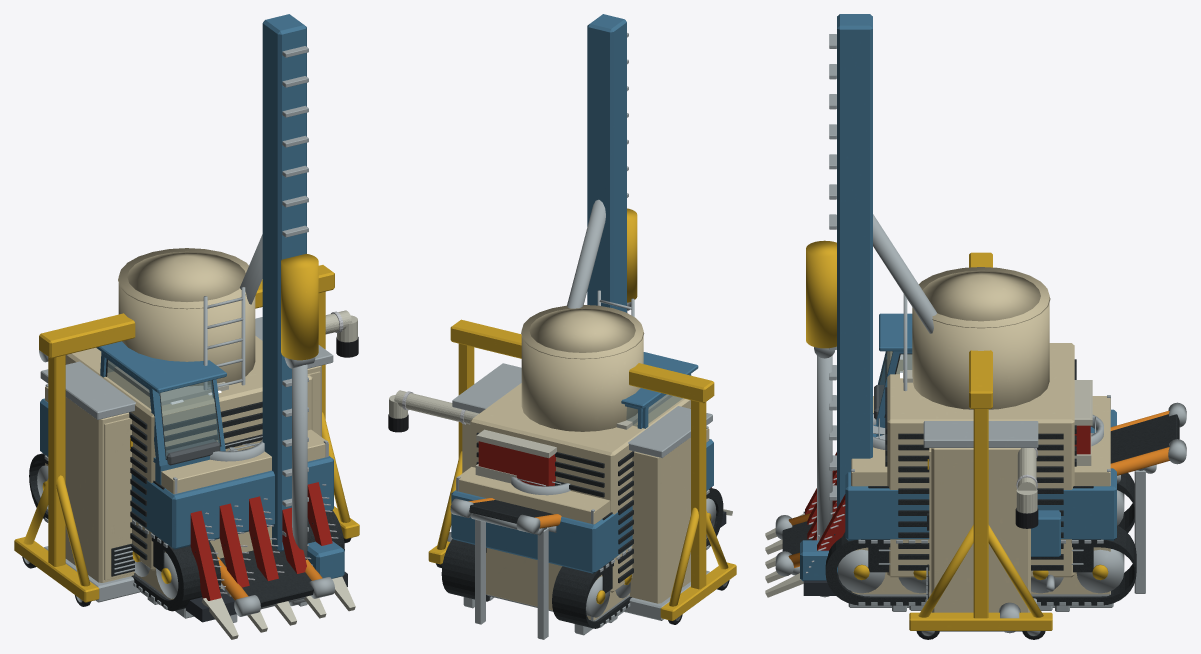
Rendered from vehicle_04.glb.
The picture shows the model from 3 angles, left to right: view 1: azimuth 30°, elevation 25°; view 2: azimuth 150°, elevation 25°; view 3: azimuth 270°, elevation 25°; orthographic projection. The views are drawn at different scales.
Visible parts, largest first — view 1: vehicle_084_Body_Paint_LOD0, vehicle_097_Body_Paint_LOD0, vehicle_096_Body_Paint_LOD0, vehicle_087_Body_Paint_LOD0, header.001 (×3), vehicle_089_Body_Paint_LOD0, vehicle_084_Body_Metal_LOD0, vehicle_087_Body_Metal_LOD0, vehicle_084_Body_Glass_LOD0, vehicle_099_Body_Paint_LOD0, vehicle_089_Body_Rubber_LOD0, vehicle_084_Body_Rubber_LOD0 (+9 smaller); view 2: vehicle_084_Body_Paint_LOD0, vehicle_097_Body_Paint_LOD0, vehicle_096_Body_Paint_LOD0, vehicle_087_Body_Paint_LOD0, vehicle_089_Body_Paint_LOD0, vehicle_099_Body_Paint_LOD0, vehicle_084_Body_Rubber_LOD0, vehicle_087_Body_Metal_LOD0, static_shell (×2), vehicle_094_Body_Metal_LOD0, vehicle_084_Body_Metal_LOD0, vehicle_089_Body_Rubber_LOD0 (+5 smaller); view 3: vehicle_084_Body_Paint_LOD0, vehicle_097_Body_Paint_LOD0, vehicle_087_Body_Paint_LOD0, vehicle_089_Body_Paint_LOD0, vehicle_084_Body_Metal_LOD0, vehicle_096_Body_Paint_LOD0, vehicle_099_Body_Paint_LOD0, vehicle_084_Body_Rubber_LOD0, vehicle_089_Body_Rubber_LOD0, vehicle_094_Body_Metal_LOD0, vehicle_094_Body_Rubber_LOD0, vehicle_087_Body_Metal_LOD0 (+7 smaller).
Part boxes in pixels (box(x1,y1,x2,y2)): vehicle_084_Body_Paint_LOD0: box(40, 14, 333, 583); vehicle_097_Body_Paint_LOD0: box(118, 248, 255, 386); vehicle_096_Body_Paint_LOD0: box(14, 265, 359, 602); vehicle_087_Body_Paint_LOD0: box(65, 365, 321, 582); header.001 (×3): box(186, 482, 355, 639); vehicle_089_Body_Paint_LOD0: box(65, 336, 312, 570); vehicle_084_Body_Metal_LOD0: box(37, 46, 315, 609); vehicle_087_Body_Metal_LOD0: box(40, 317, 333, 602); vehicle_084_Body_Glass_LOD0: box(107, 360, 219, 458); vehicle_099_Body_Paint_LOD0: box(45, 386, 328, 599); vehicle_089_Body_Rubber_LOD0: box(129, 401, 262, 559); vehicle_084_Body_Rubber_LOD0: box(29, 359, 344, 611); vehicle_084_Body_Paint_LOD0: box(451, 14, 713, 604); vehicle_097_Body_Paint_LOD0: box(521, 305, 644, 431); vehicle_096_Body_Paint_LOD0: box(428, 319, 736, 620); vehicle_087_Body_Paint_LOD0: box(462, 423, 690, 603); vehicle_089_Body_Paint_LOD0: box(470, 383, 690, 592); vehicle_099_Body_Paint_LOD0: box(456, 428, 709, 620); vehicle_084_Body_Rubber_LOD0: box(441, 488, 723, 628); vehicle_087_Body_Metal_LOD0: box(452, 363, 712, 620); static_shell (×2): box(475, 394, 670, 486); vehicle_094_Body_Metal_LOD0: box(450, 498, 556, 639); vehicle_084_Body_Metal_LOD0: box(489, 33, 716, 627); vehicle_089_Body_Rubber_LOD0: box(476, 432, 634, 583); vehicle_084_Body_Paint_LOD0: box(806, 14, 1116, 580); vehicle_097_Body_Paint_LOD0: box(912, 267, 1050, 409); vehicle_087_Body_Paint_LOD0: box(927, 448, 1030, 612); vehicle_089_Body_Paint_LOD0: box(887, 343, 1074, 577); vehicle_084_Body_Metal_LOD0: box(814, 34, 1124, 605); vehicle_096_Body_Paint_LOD0: box(909, 252, 1052, 630); vehicle_099_Body_Paint_LOD0: box(851, 396, 1110, 594); vehicle_084_Body_Rubber_LOD0: box(825, 351, 1136, 605); vehicle_089_Body_Rubber_LOD0: box(885, 359, 1076, 570); vehicle_094_Body_Metal_LOD0: box(775, 402, 1186, 593); vehicle_094_Body_Rubber_LOD0: box(782, 414, 1179, 554); vehicle_087_Body_Metal_LOD0: box(923, 421, 1038, 631).
Size of what is drawn, in the model's own units: 5.16 by 8.37 by 5.58.
Materials: 14 (9 with a texture image).
